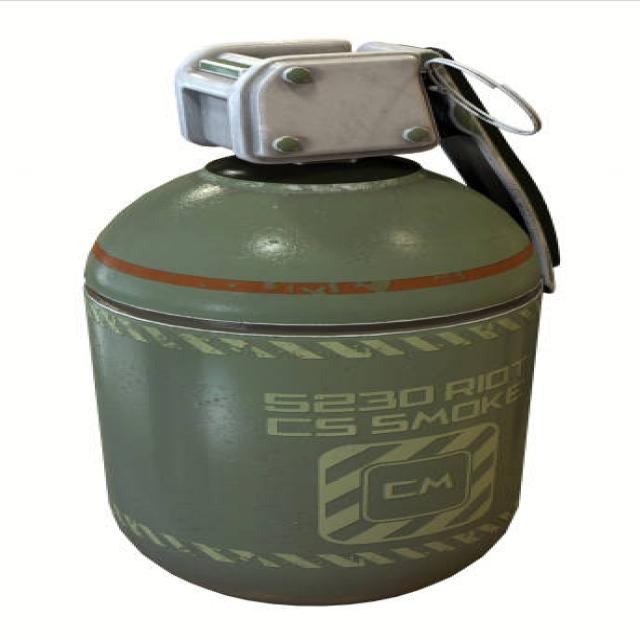grenade: (62, 29, 584, 612)
